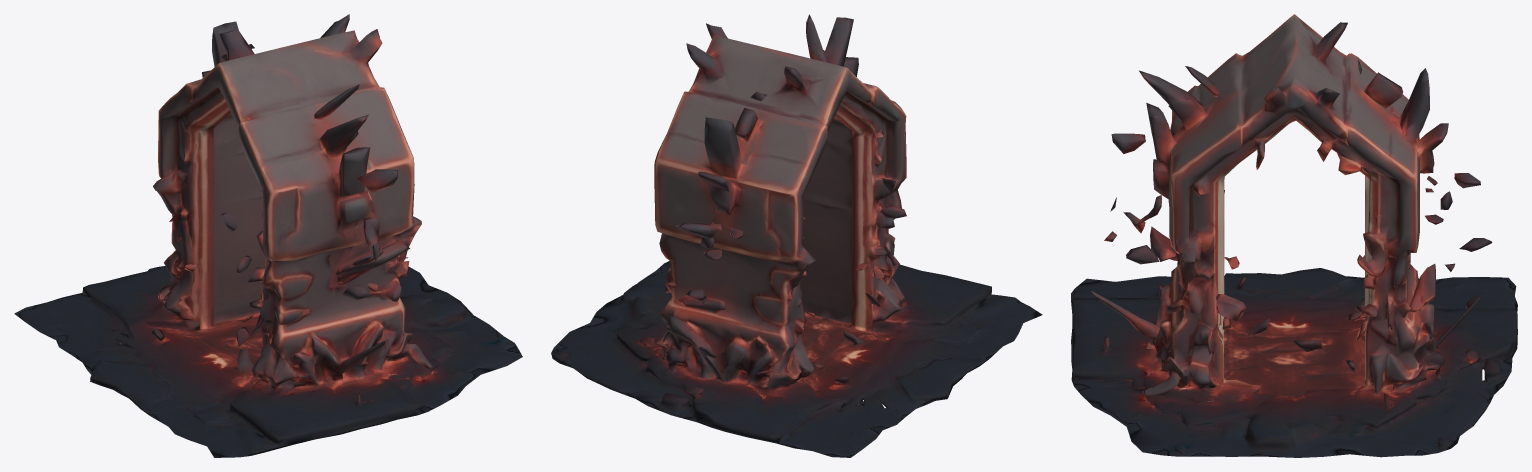
Rendered from fightPortal.fbx.
3 views of the same model, side by side, from view 1: azimuth 30°, elevation 25°; view 2: azimuth 150°, elevation 25°; view 3: azimuth 270°, elevation 25° (orthographic). The views are drawn at different scales.
Visible parts, largest first — view 1: tripo_node_93e2372b; view 2: tripo_node_93e2372b; view 3: tripo_node_93e2372b.
Part boxes in pixels (x1,y1,x2,y2): tripo_node_93e2372b: [14, 14, 522, 457]; tripo_node_93e2372b: [551, 14, 1042, 457]; tripo_node_93e2372b: [1071, 14, 1517, 457].
Bounding box in the file's own units: 0.9785 × 0.8058 × 0.9913.
1 material, 1 textured.
